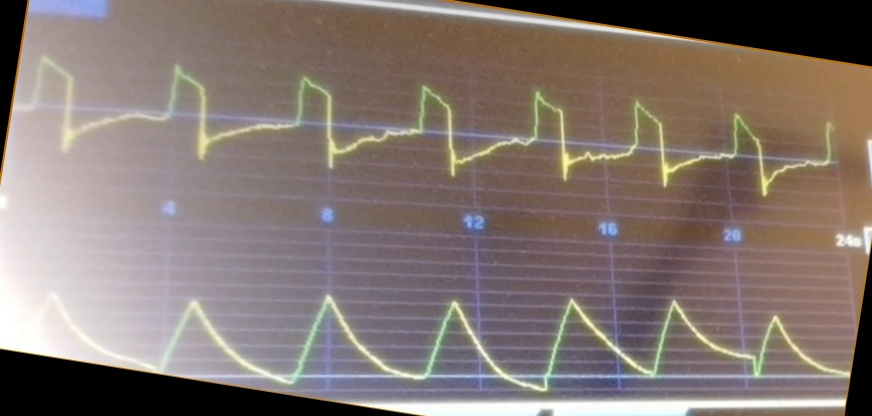Accumulation Flow: (22, 54, 797, 198)
Volume: (24, 289, 846, 393)
